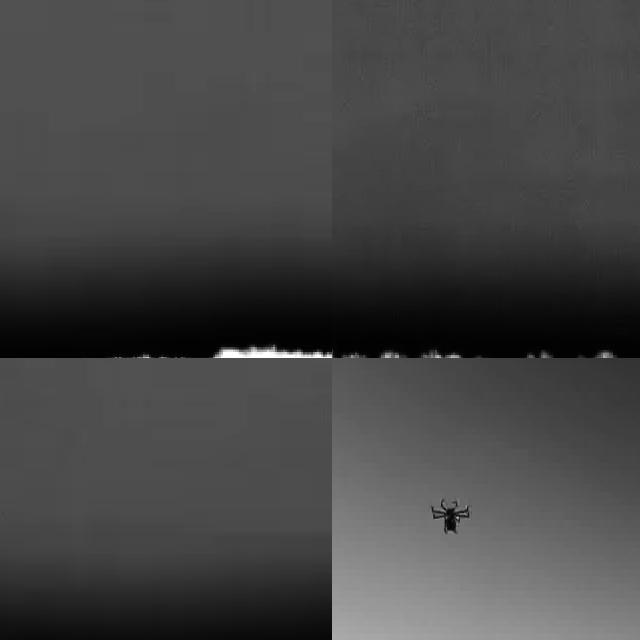0: (94, 358, 118, 366)
drone: (426, 491, 470, 544)
